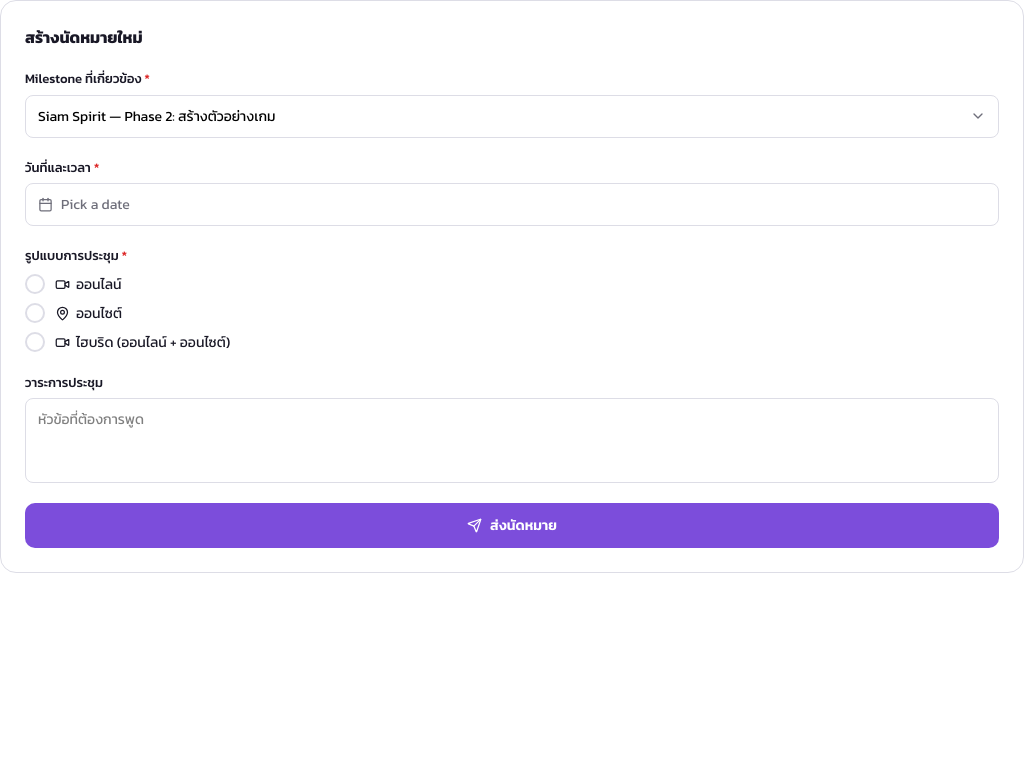
Test: meeting milestone default › shows the validation error beside the date field
Check: the button named "Milestone ที่เกี่ยวข้อง" shows "Phase 2: สร้างตัวอย่างเกม", box [25,94,999,138]
Click the button "ส่งนัดหมาย": [512, 526] box [25,503,999,548]
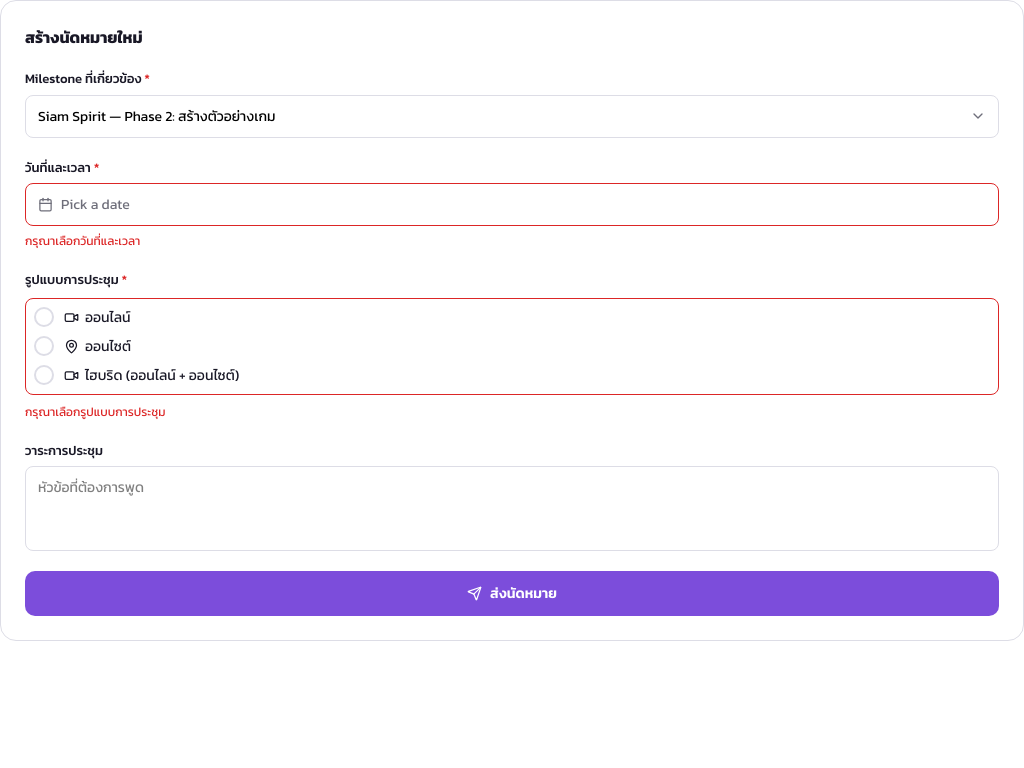
Check: the text "กรุณาเลือกวันที่และเวลา" is shown, box [25,232,140,250]
